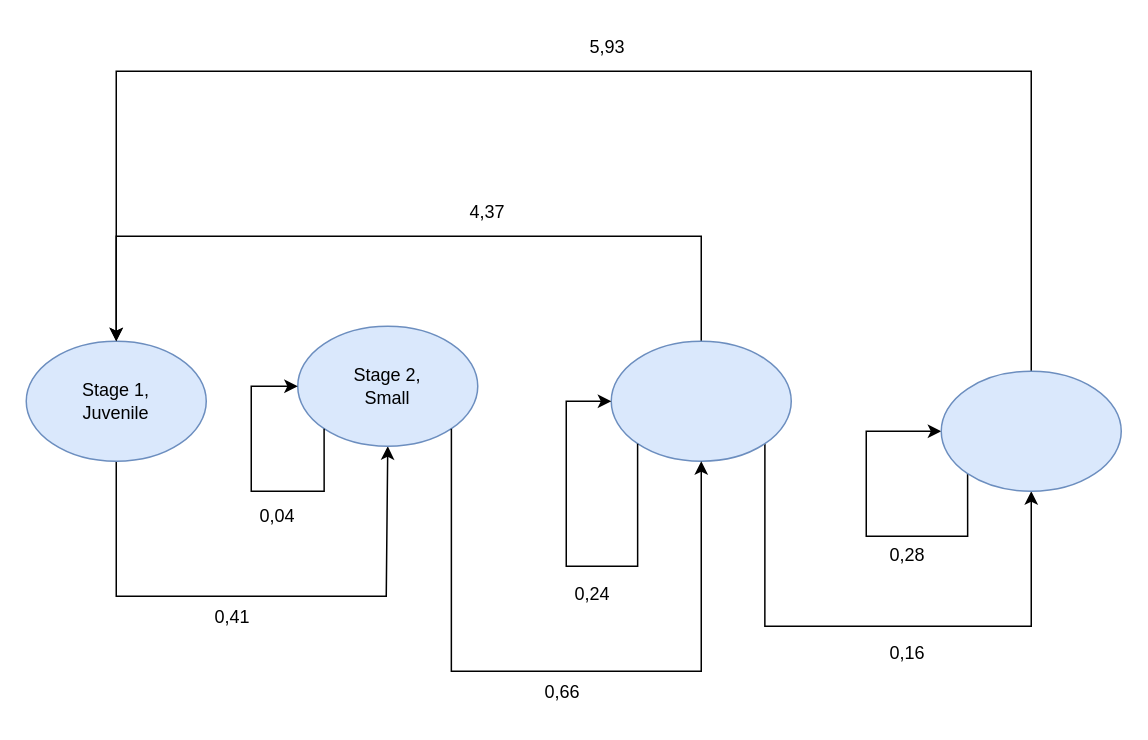
Some shapes in this 1148 by 740 pixel diagram are drawn without their labels. Each missing label, with the box of its shape:
Stage 3, Medium: (610, 340, 791, 461)
Stage 4, Large: (940, 370, 1121, 491)
